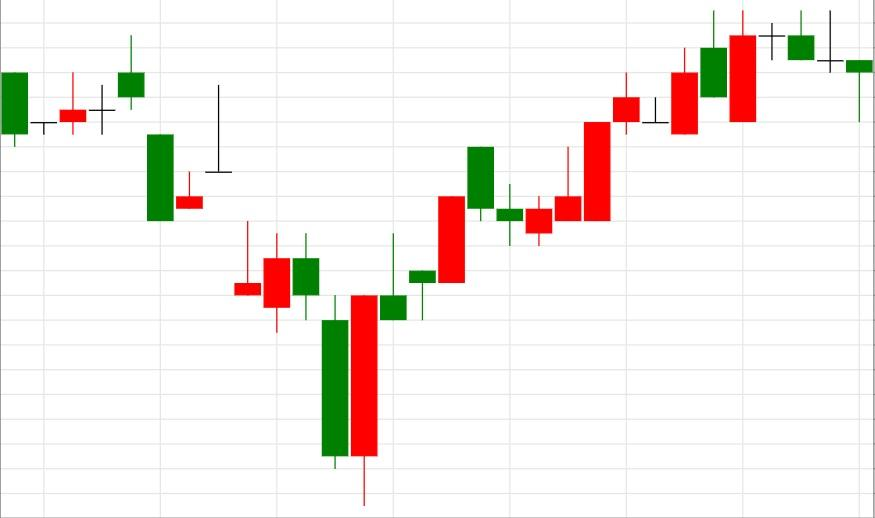bullish_engulfing_rise: (117, 34, 379, 505)
